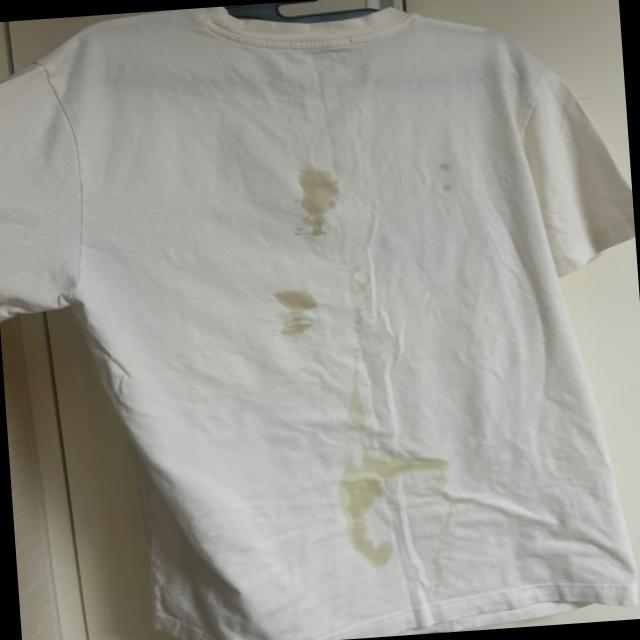stain: (324, 442, 458, 487), (286, 165, 352, 238), (328, 370, 376, 430), (272, 288, 322, 344), (434, 150, 469, 198), (338, 268, 378, 302)
